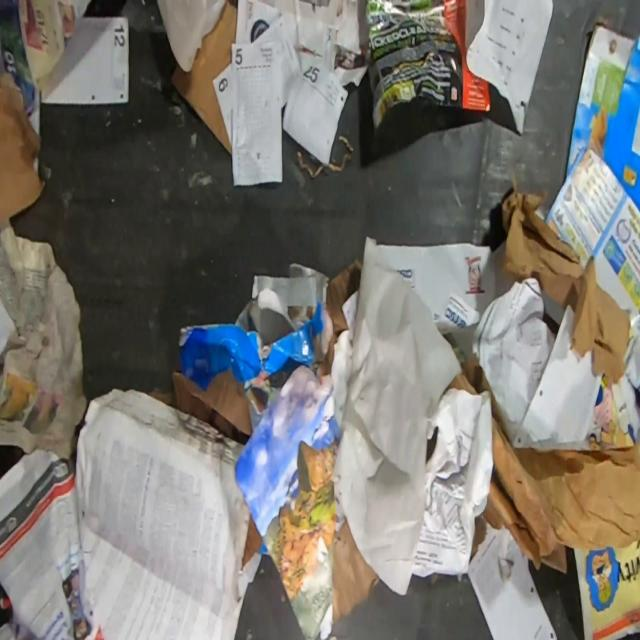cardboard: (149, 257, 380, 639), (566, 23, 640, 213), (171, 0, 237, 154), (0, 34, 45, 230)
